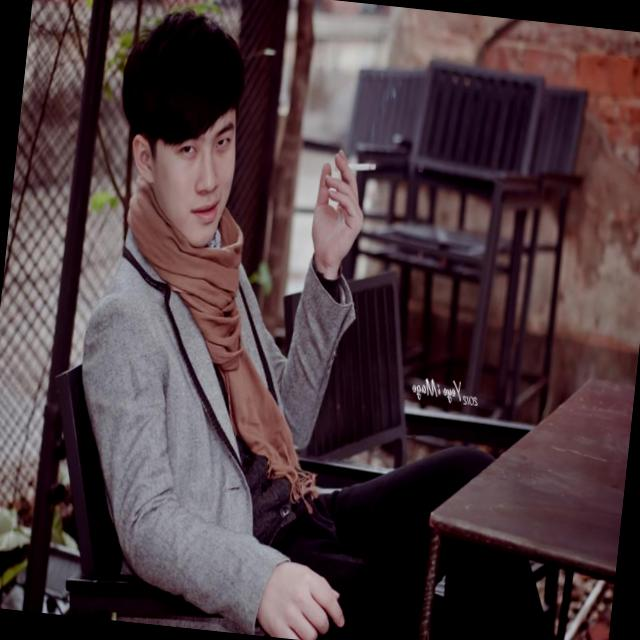cigarette: (289, 128, 386, 211)
